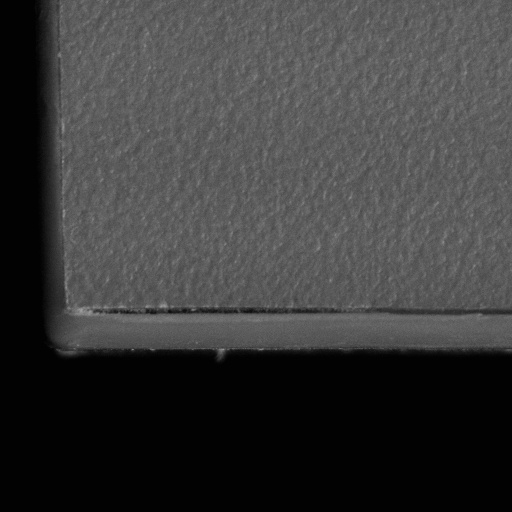jiaofeng: (86, 304, 511, 332)
